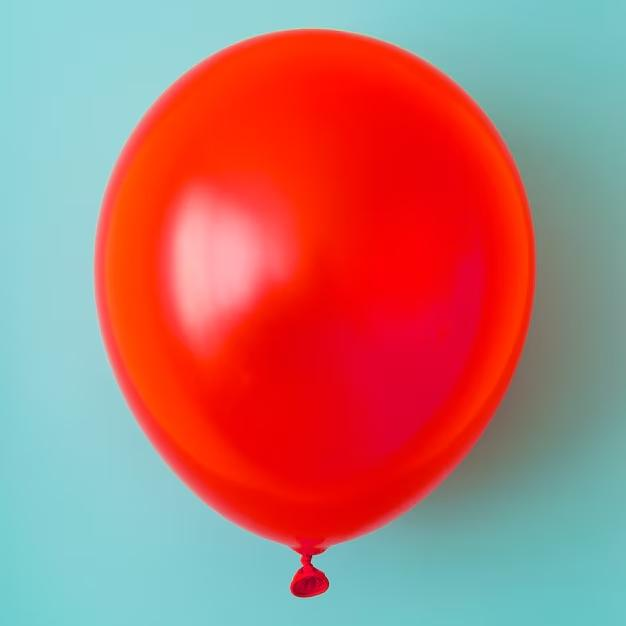red: (92, 21, 548, 601)
